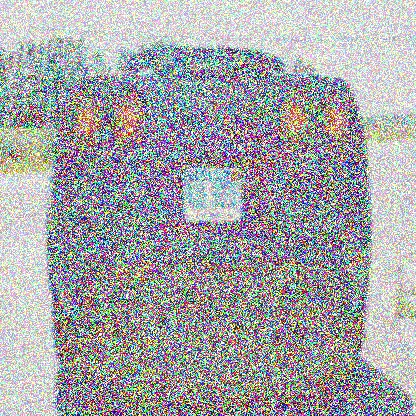Vehicle: (46, 46, 372, 377)
